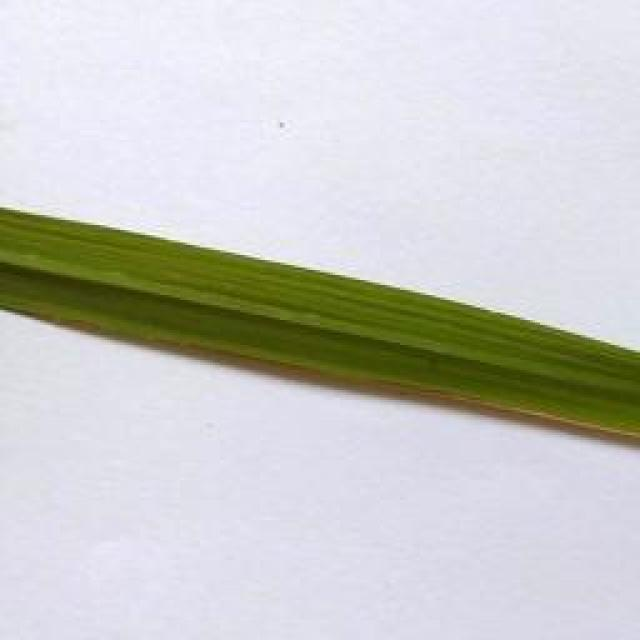Bacterial_Blight: (436, 382, 640, 444)
